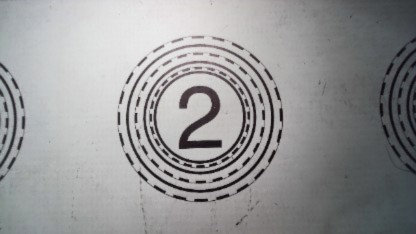2r: (113, 35, 284, 204)
